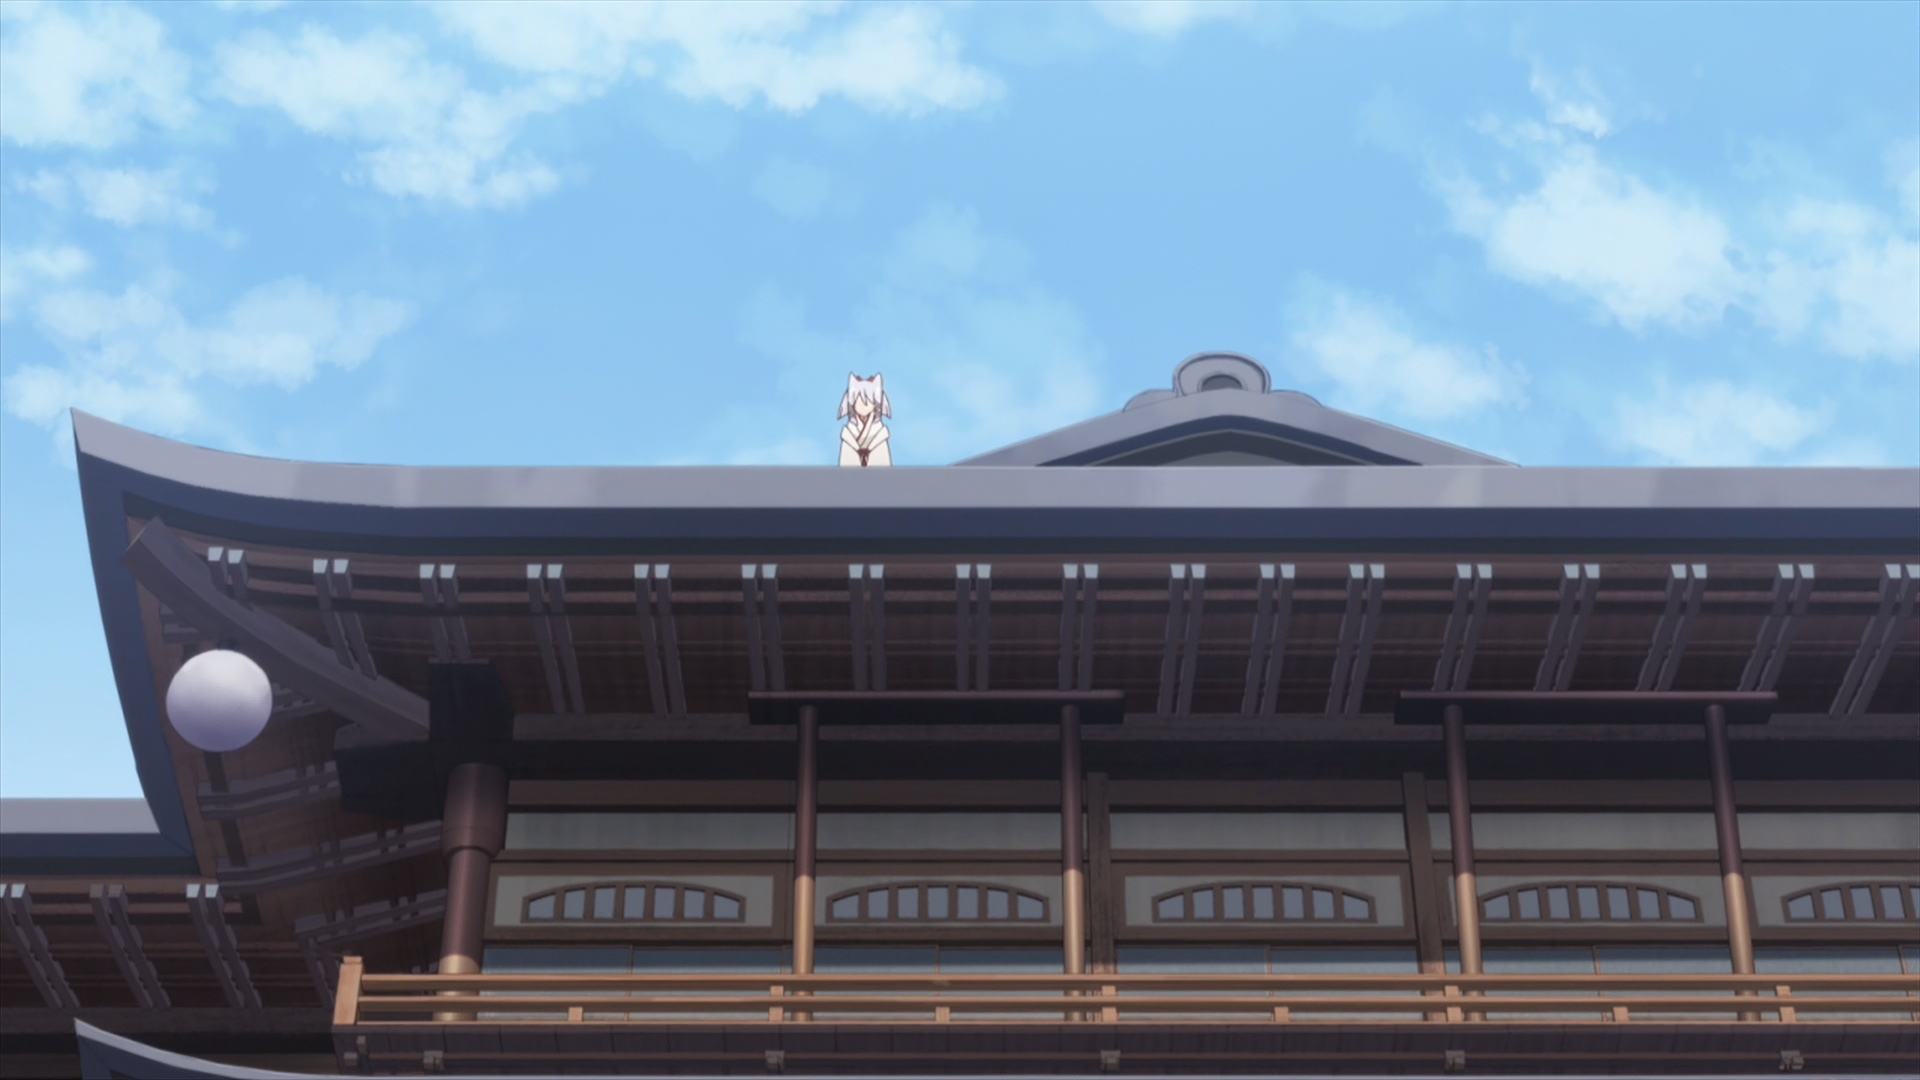柊: (835, 375, 894, 467)
